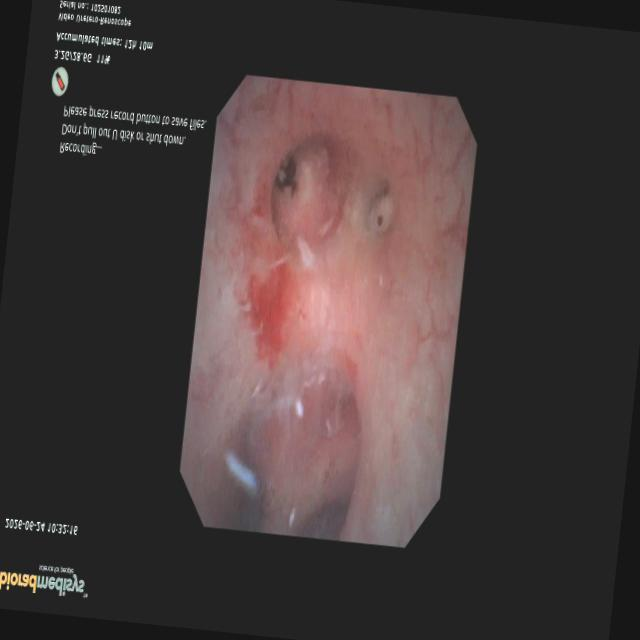stone-new: (274, 156, 296, 194)
